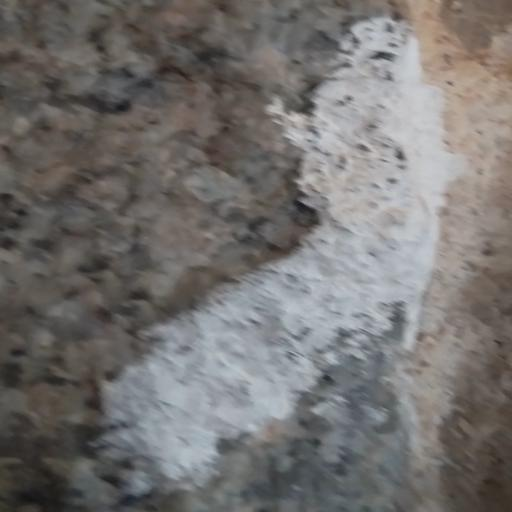stain: (81, 16, 475, 509)
